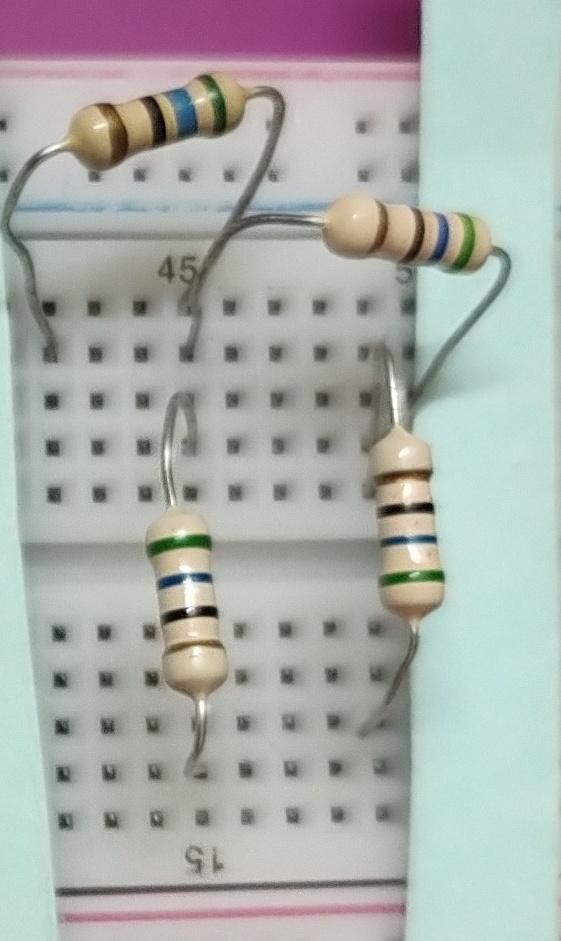resistor: (135, 503, 262, 703), (308, 175, 502, 302), (60, 72, 260, 185), (363, 408, 452, 630)
